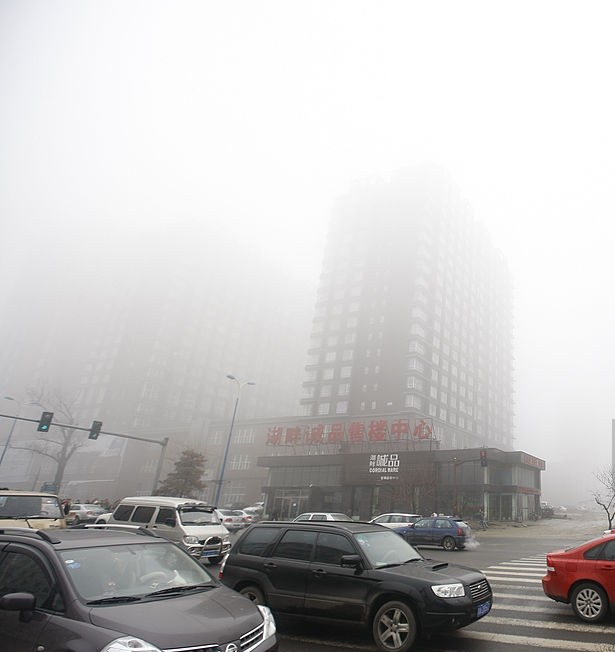car: (219, 516, 496, 648), (0, 531, 278, 651), (102, 496, 231, 566), (541, 529, 614, 623), (395, 517, 470, 550), (66, 504, 108, 525), (218, 506, 257, 528)
